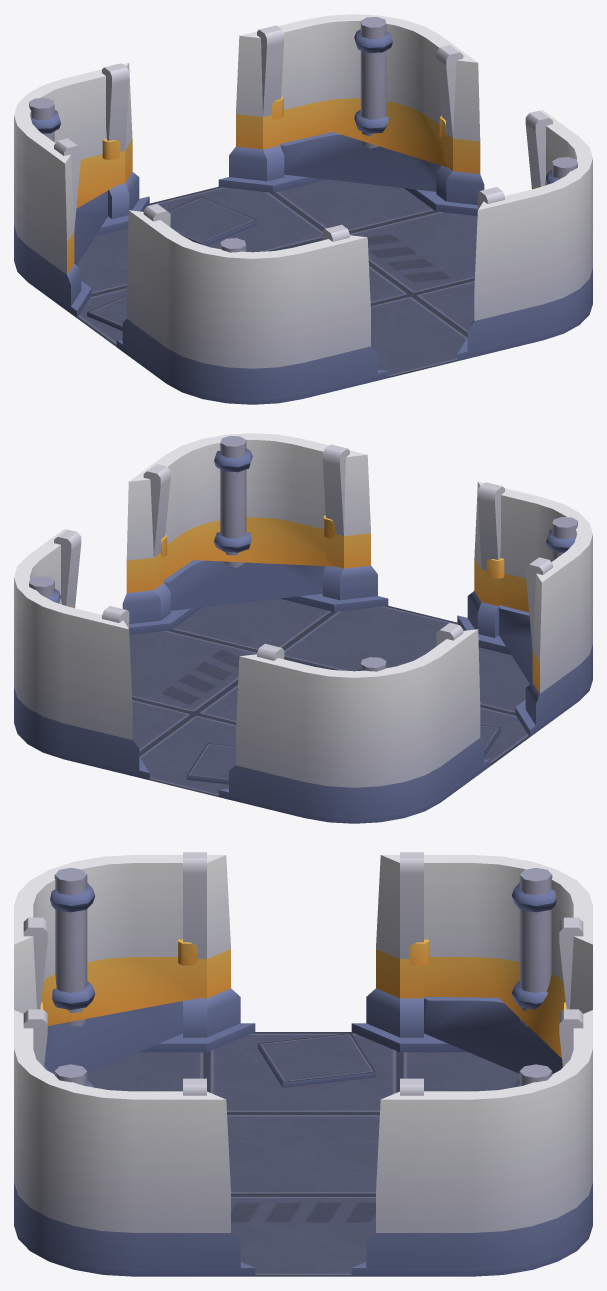
Rendered from kenney-space-modular-room-small.glb.
3 renders of one model, top to bottom at view 1: azimuth 30°, elevation 25°; view 2: azimuth 150°, elevation 25°; view 3: azimuth 270°, elevation 25°, orthographic. The views are drawn at different scales.
Visible parts, largest first — view 1: room-small; view 2: room-small; view 3: room-small.
Boxes of the visible parts, x1,y1,x2,y2 form: room-small: (14,14,592,404); room-small: (14,433,592,823); room-small: (14,852,592,1276).
Bounding box in the file's own units: 12 × 4.25 × 12.
1 material, 1 textured.
